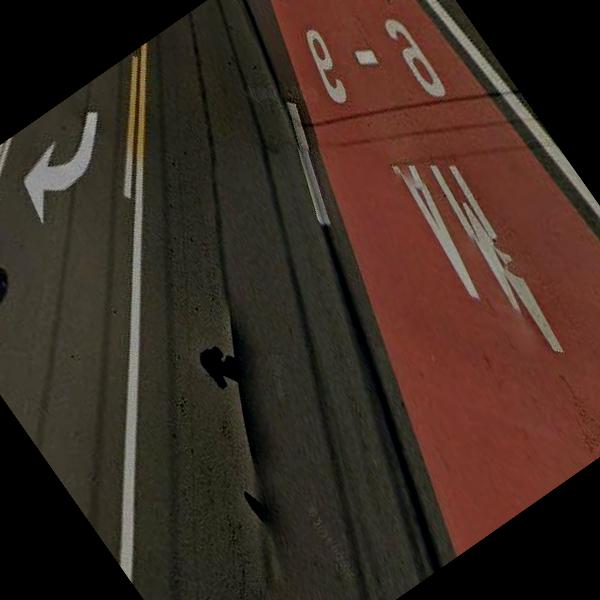manhole: (0, 253, 26, 319)
